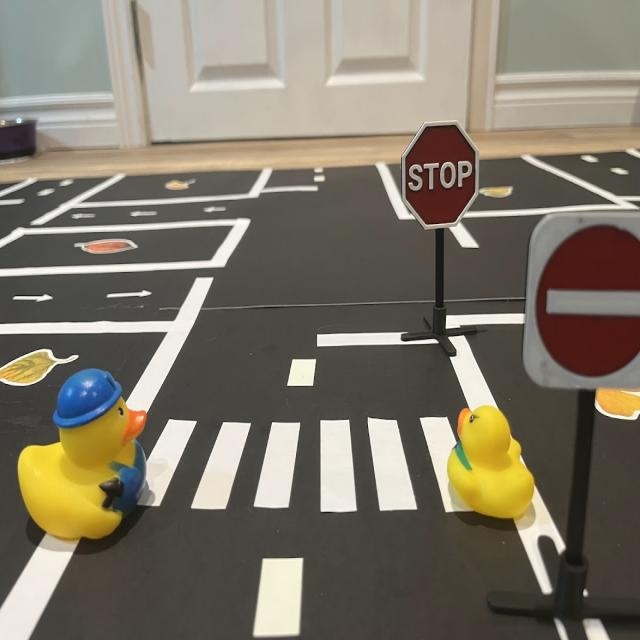duck_regular: (449, 409, 536, 525)
duck_specialty: (18, 370, 148, 547)
road_crosswalk: (135, 408, 485, 518)
road_oneway: (9, 282, 56, 308), (104, 285, 156, 304), (128, 206, 167, 222), (199, 205, 233, 217), (71, 210, 99, 223)
sign_noentry: (526, 213, 640, 392)
sign_stop: (405, 124, 479, 229)
